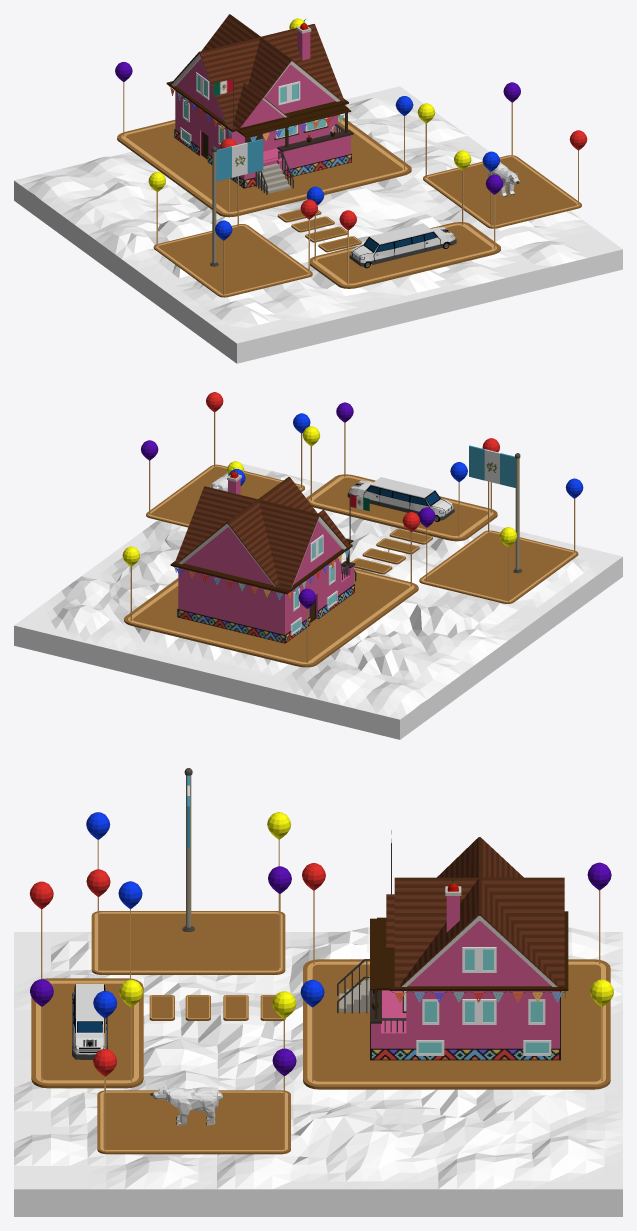
The picture shows the model from 3 angles, top to bottom: view 1: azimuth 30°, elevation 25°; view 2: azimuth 150°, elevation 25°; view 3: azimuth 270°, elevation 25°; orthographic projection. The views are drawn at different scales.
Parts seen in each view (by area): view 1: Cube.013, Cube.1005, VEHICLES_LIMOUSINE, OBJRANDOM_GUATEMALAN_FLAG, ANIMAL_OSO_POLAR; view 2: Cube.013, Cube.1005, VEHICLES_LIMOUSINE, OBJRANDOM_GUATEMALAN_FLAG; view 3: Cube.013, Cube.1005, VEHICLES_LIMOUSINE, ANIMAL_OSO_POLAR, OBJRANDOM_GUATEMALAN_FLAG.
Boxes of the visible parts, x1,y1,x2,y2 form: Cube.013: (14,18,622,363); Cube.1005: (166,14,353,194); VEHICLES_LIMOUSINE: (349,223,456,268); OBJRANDOM_GUATEMALAN_FLAG: (210,139,263,266); ANIMAL_OSO_POLAR: (488,162,519,196); Cube.013: (14,392,622,739); Cube.1005: (170,467,369,643); VEHICLES_LIMOUSINE: (347,477,454,521); OBJRANDOM_GUATEMALAN_FLAG: (469,445,521,573); Cube.013: (14,812,622,1216); Cube.1005: (337,830,568,1060); VEHICLES_LIMOUSINE: (72,984,107,1059); ANIMAL_OSO_POLAR: (150,1085,222,1125); OBJRANDOM_GUATEMALAN_FLAG: (182,768,194,931).
Size of the model in its own units: 4000 by 1782 by 4000.
Materials: 72 (3 with a texture image).
